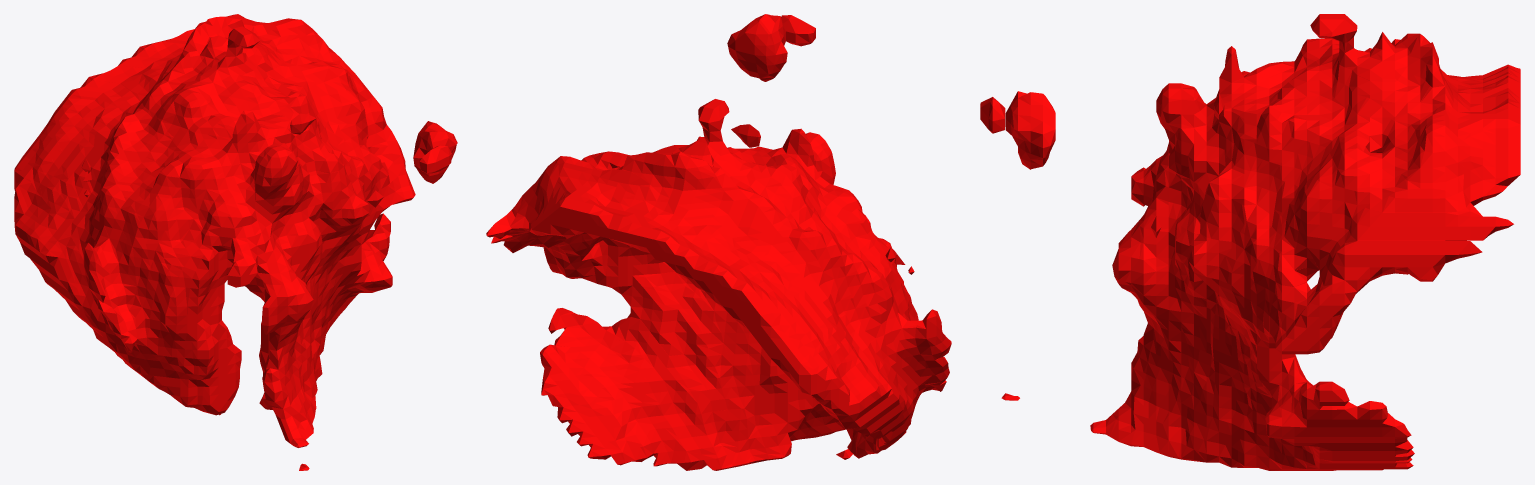
File: B939XXXX-1_valve_32.obj
3 renders of one model, left to right at view 1: azimuth 30°, elevation 25°; view 2: azimuth 150°, elevation 25°; view 3: azimuth 270°, elevation 25°, orthographic. The views are drawn at different scales.
Visible parts, largest first — view 1: 32_valve; view 2: 32_valve; view 3: 32_valve.
Part boxes in pixels (x1,y1,x2,y2): 32_valve: (14,14,457,470); 32_valve: (486,14,951,470); 32_valve: (980,14,1520,470).
Bounding box in the file's own units: 77.98 × 76.97 × 85.95.
